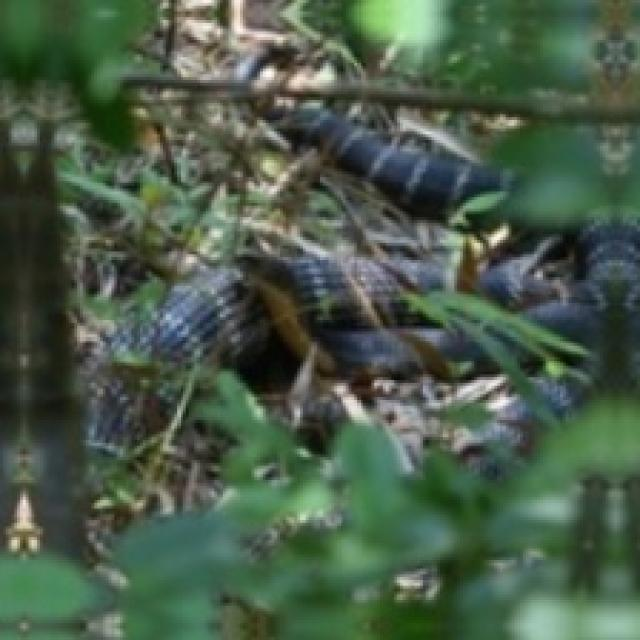king cobra: (60, 17, 637, 551), (74, 206, 637, 531)
